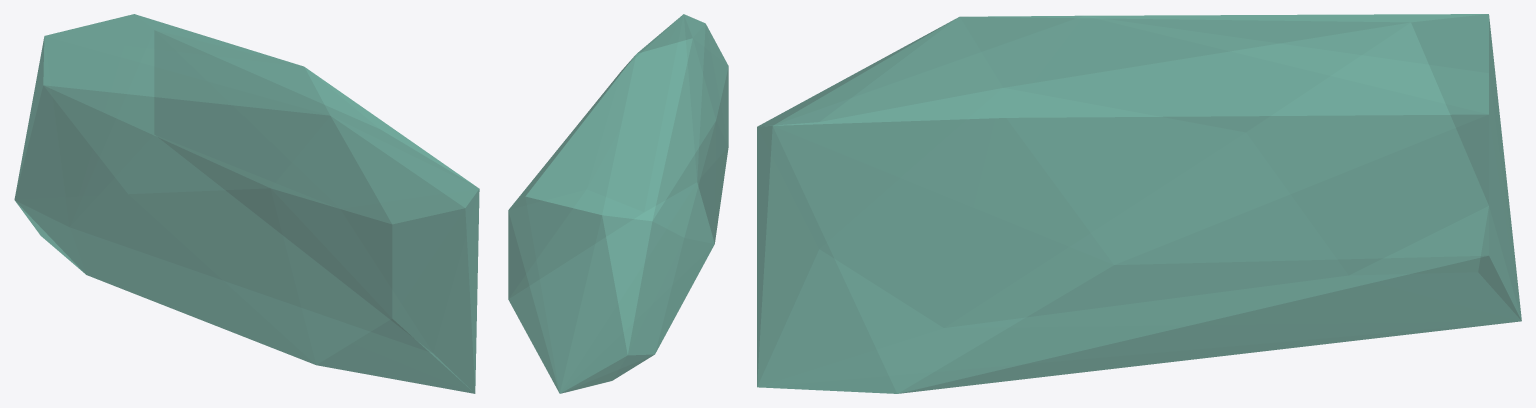
3 views of the same model, side by side, from view 1: azimuth 30°, elevation 25°; view 2: azimuth 150°, elevation 25°; view 3: azimuth 270°, elevation 25° (orthographic). The views are drawn at different scales.
Parts seen in each view (by area): view 1: Shape_IndexedFaceSet.033_Shape_IndexedFaceSet.856; view 2: Shape_IndexedFaceSet.033_Shape_IndexedFaceSet.856; view 3: Shape_IndexedFaceSet.033_Shape_IndexedFaceSet.856.
Part boxes in pixels (left/top/right/bottom): Shape_IndexedFaceSet.033_Shape_IndexedFaceSet.856: left=14, top=14, right=479, bottom=393; Shape_IndexedFaceSet.033_Shape_IndexedFaceSet.856: left=508, top=14, right=728, bottom=393; Shape_IndexedFaceSet.033_Shape_IndexedFaceSet.856: left=757, top=14, right=1521, bottom=393.
Size of the model in its own units: 0.1495 by 0.1871 by 0.3671.
